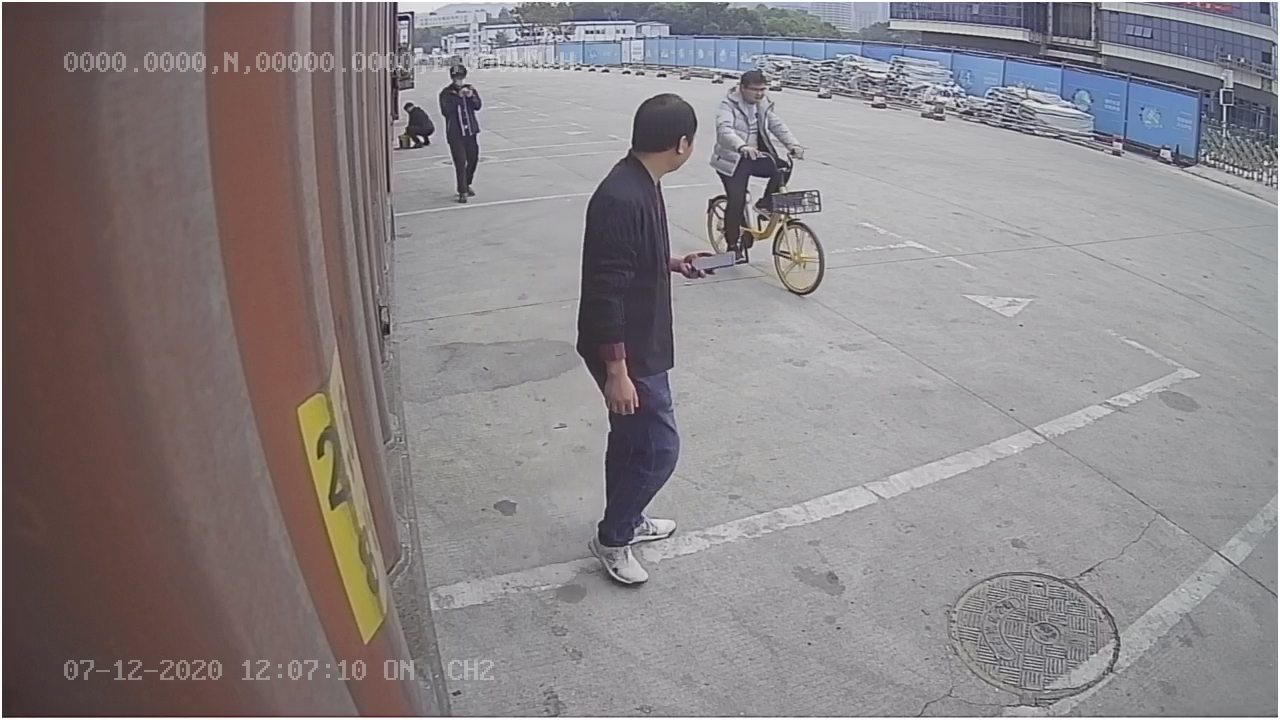person: (563, 86, 697, 586)
